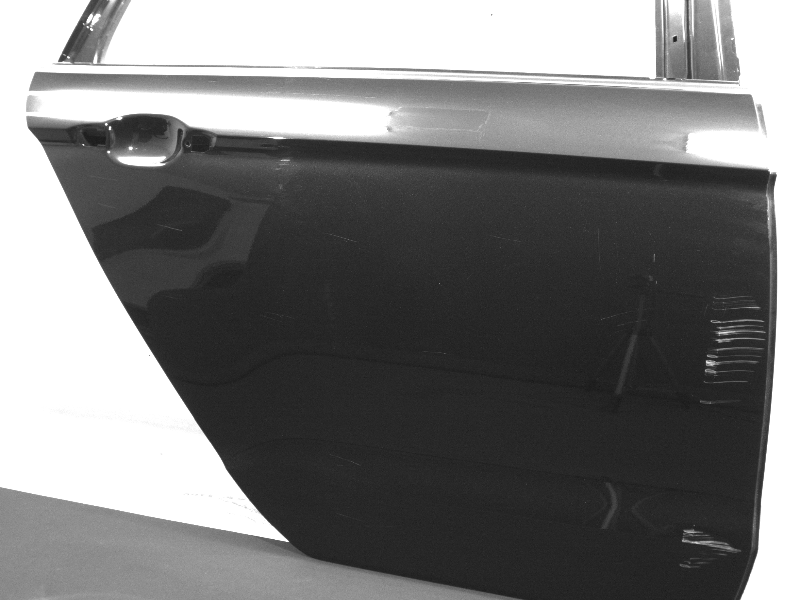scratch: (699, 295, 768, 406), (677, 527, 743, 571), (599, 309, 650, 327), (262, 311, 296, 325), (328, 452, 361, 466), (488, 233, 522, 245), (83, 172, 118, 183), (329, 231, 359, 243), (154, 222, 184, 234), (596, 226, 603, 271), (336, 513, 364, 522), (98, 201, 117, 211), (421, 350, 448, 356), (274, 159, 292, 167), (652, 253, 657, 263), (655, 278, 661, 285)
